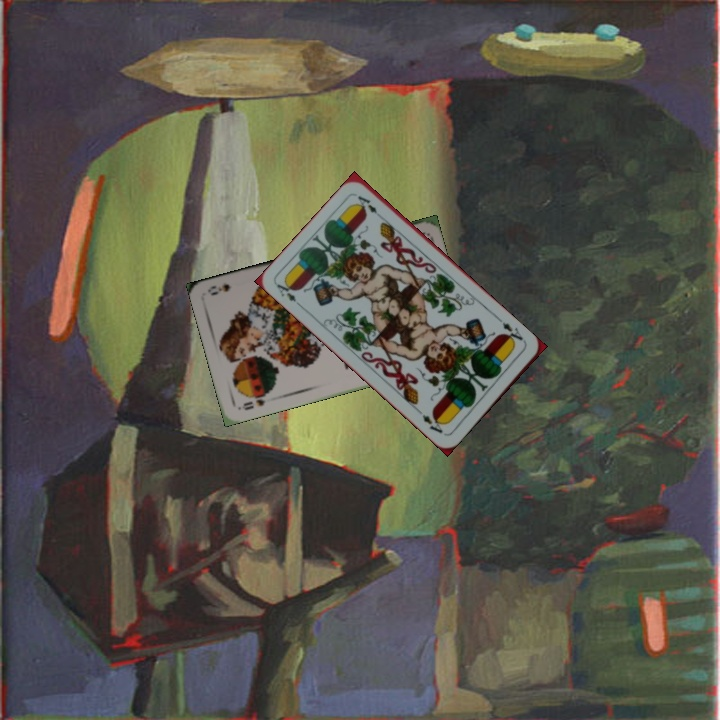EA: (273, 277, 306, 311), (495, 315, 529, 347)
SO: (235, 391, 268, 413)
